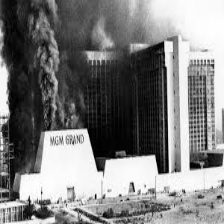smoke: (5, 4, 89, 128)
